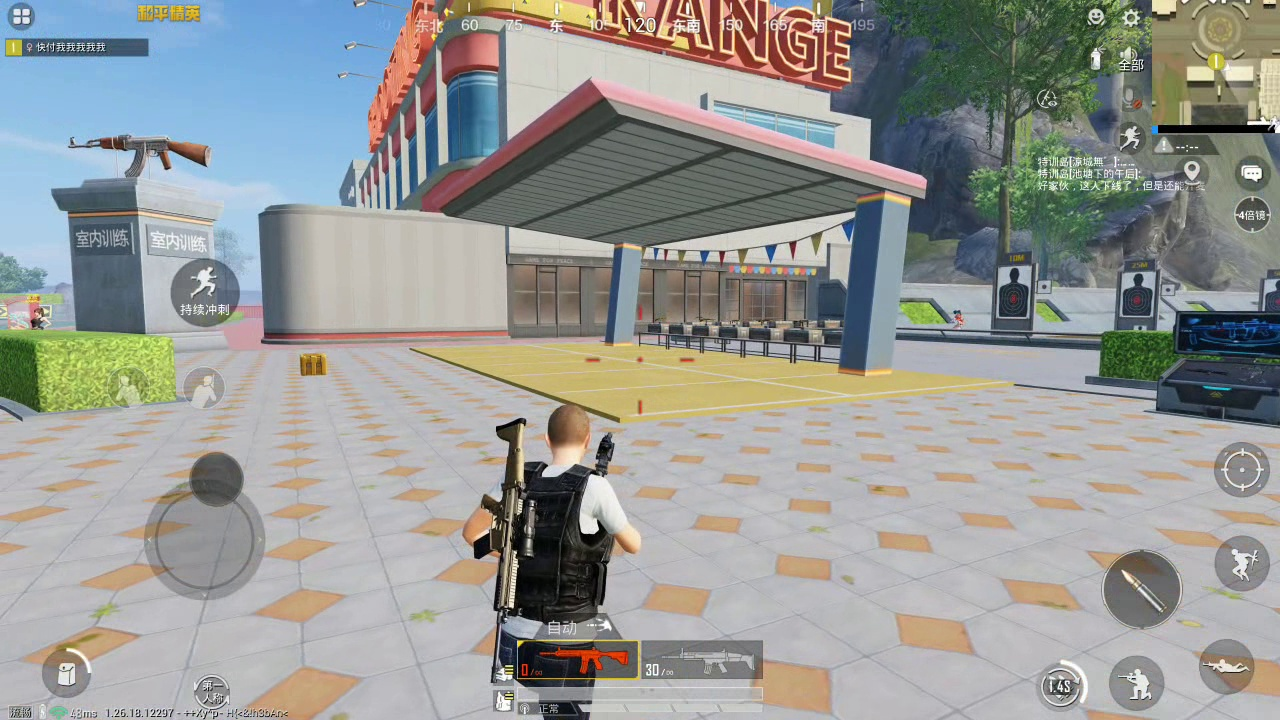enemy: (29, 307, 50, 328), (949, 309, 966, 330)
